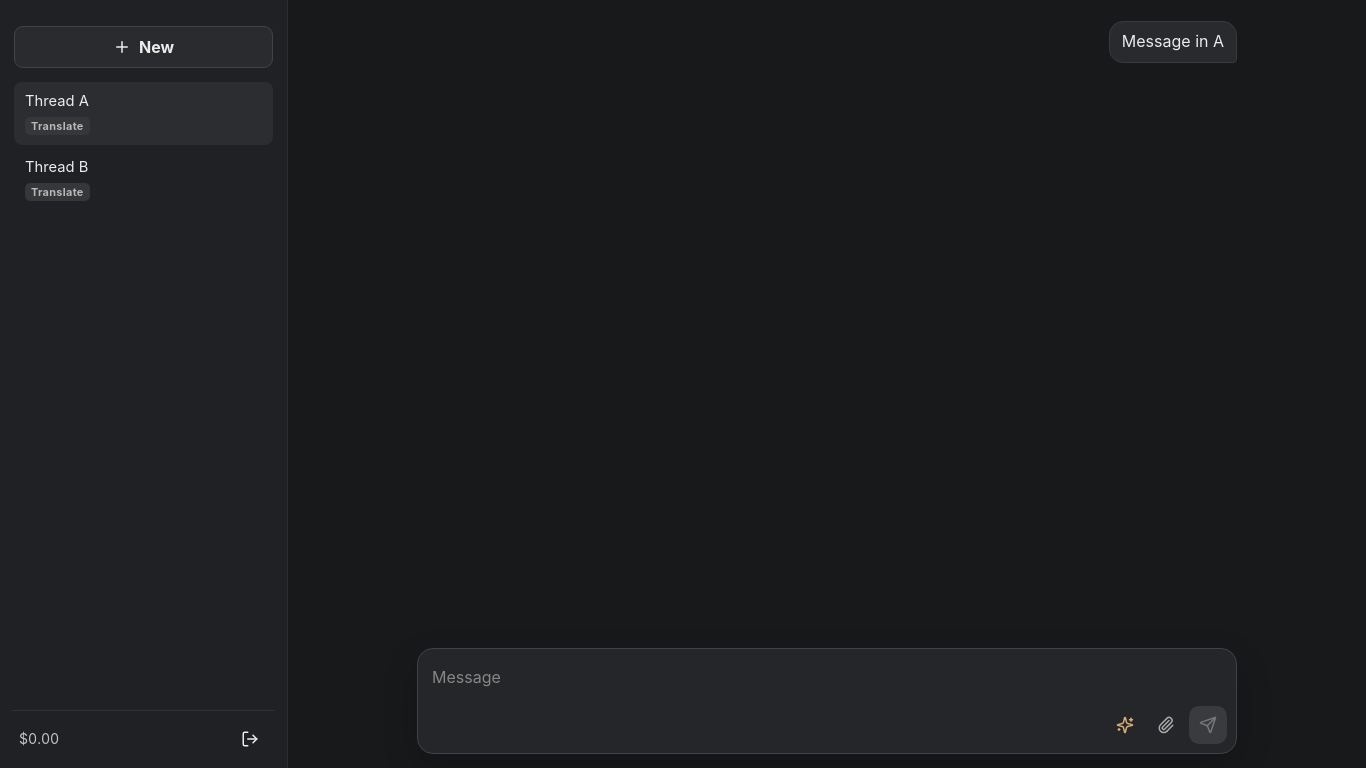
Test: L-1 / F-2, F-9: responses cannot land on the wrong conversation › does not show a conversation's composer while another one is loading
The width and height of the screenshot is (1366, 768).
Check: the text "Message in A" is shown, box [1109,21,1237,63]
Click the button "Thread B Translate": (144, 180) [14,148,273,211]
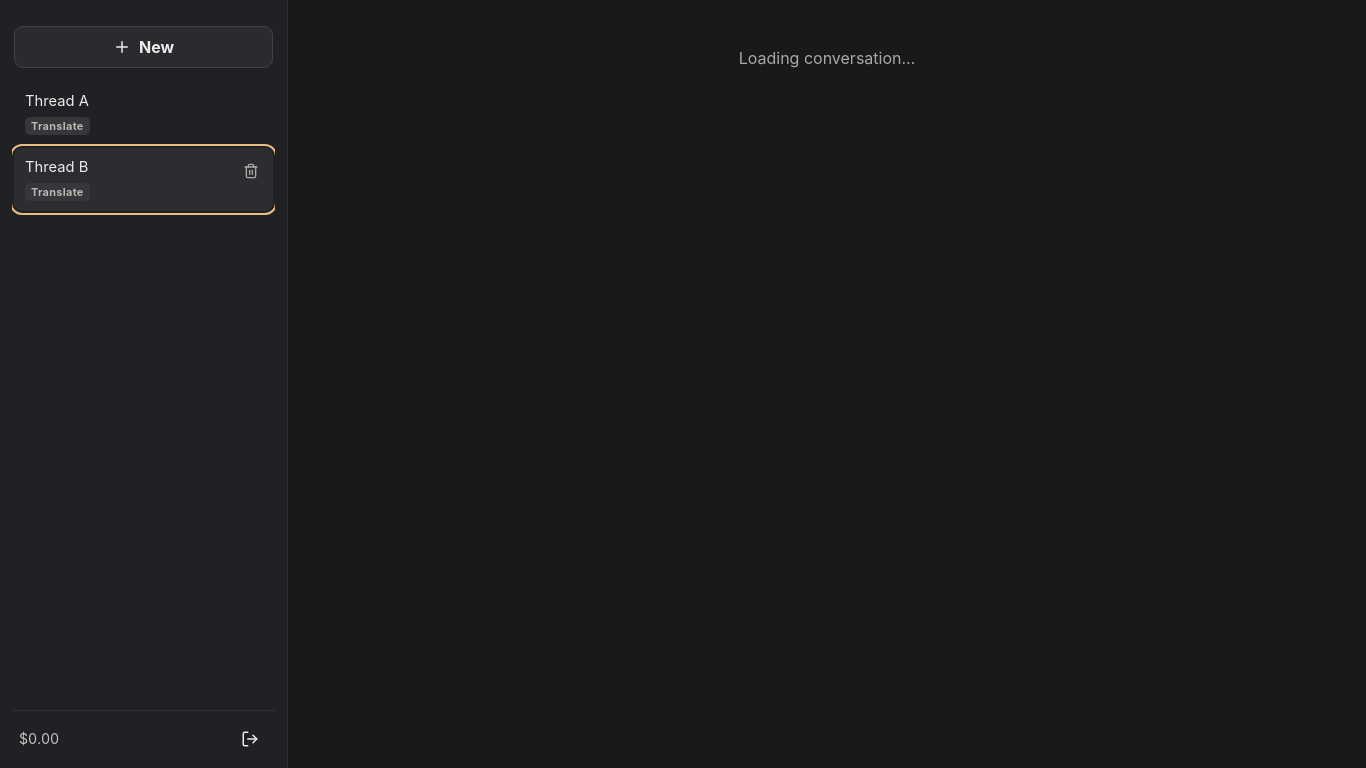
Check: the text "Loading conversation…" is shown, box [739,48,915,68]
Check: the text "Message in A" is gone
Check: the text "Message" is gone
